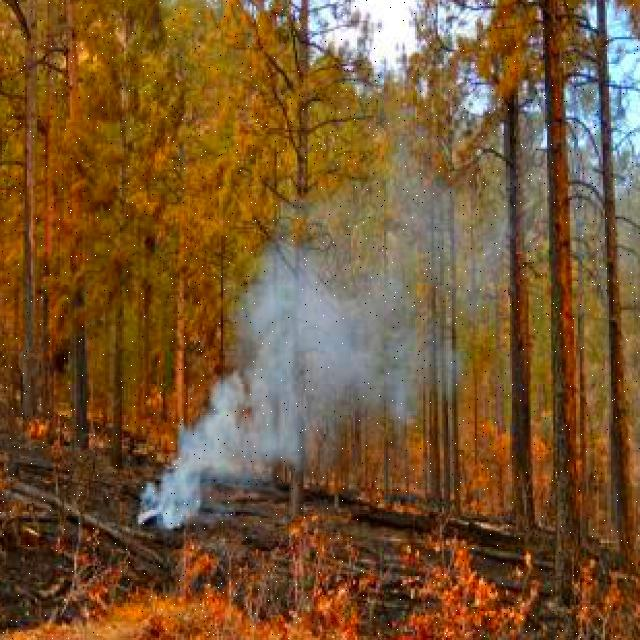smoke: (134, 242, 337, 543)
